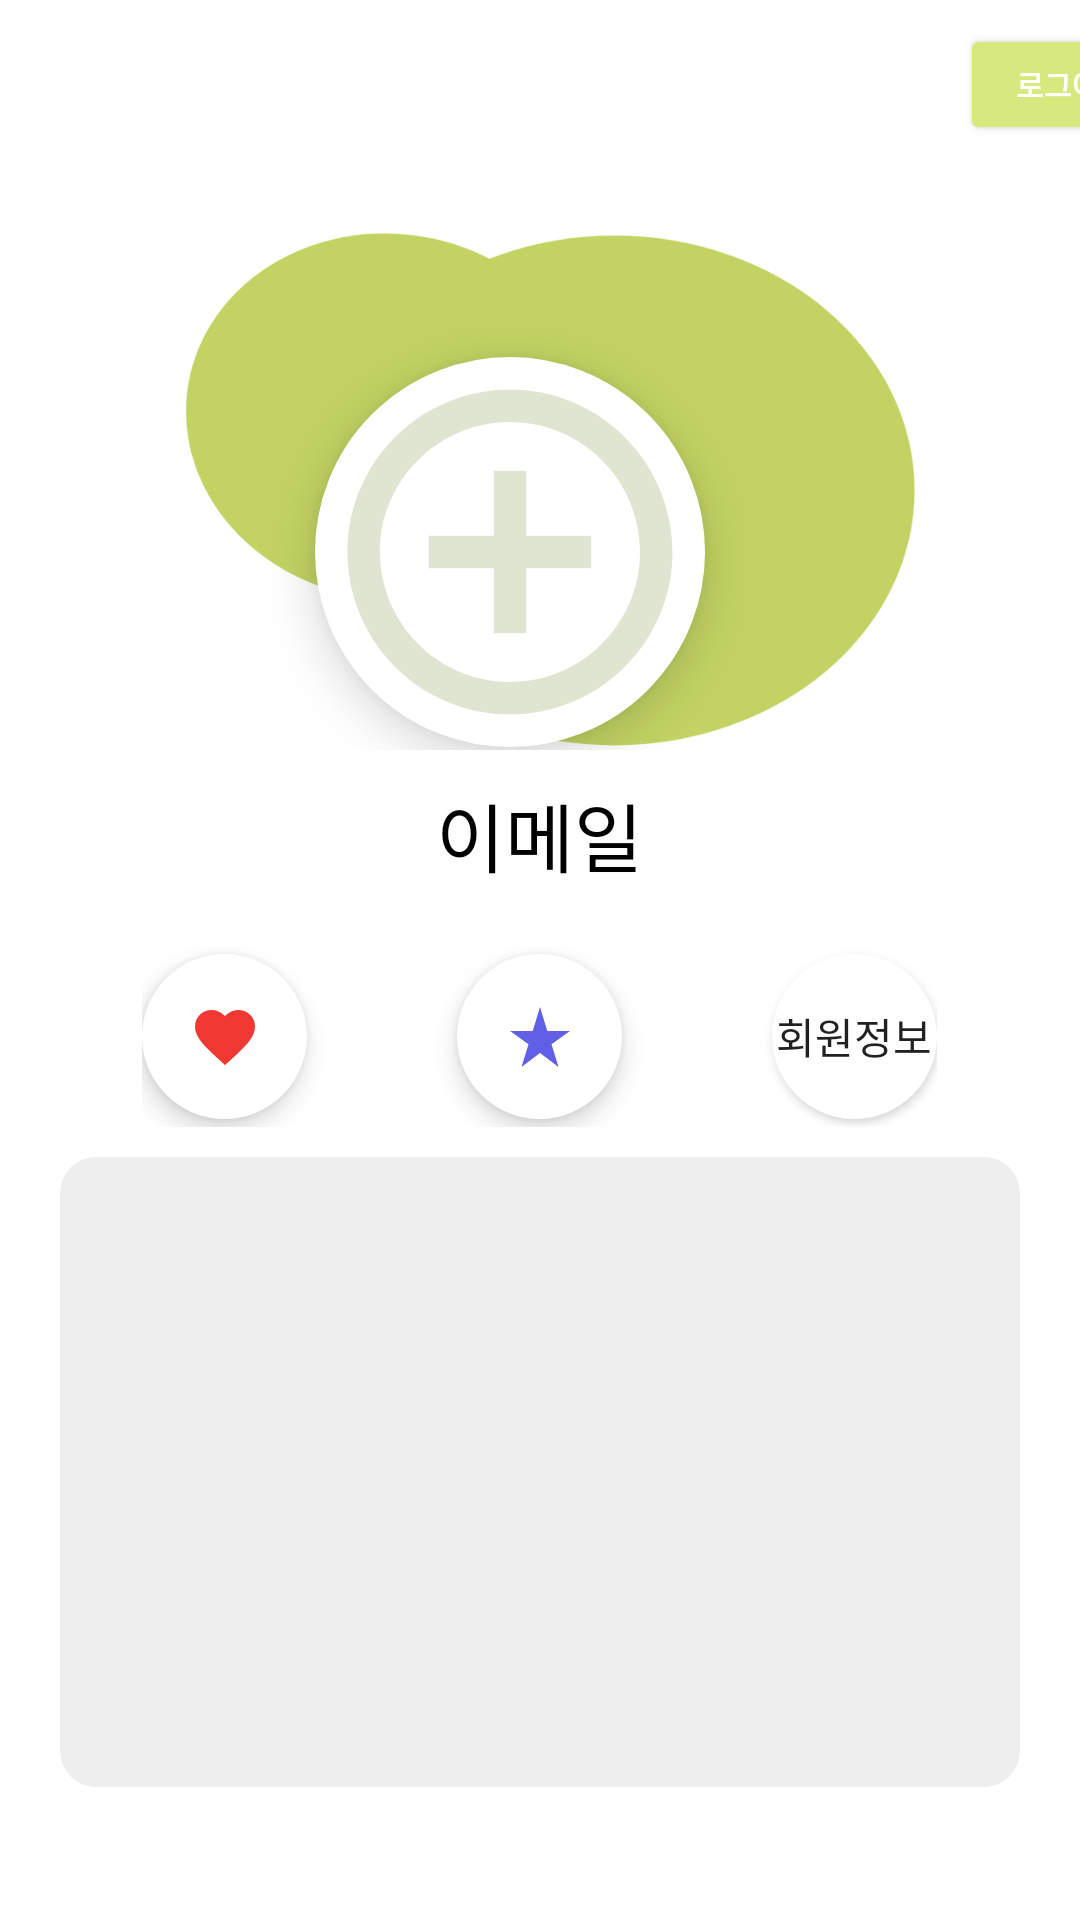

Locate icon controls on the screen. Image size 1080×1920, boxes as box=[x1, y1, x2, y2].
heart: box=[142, 1010, 298, 1080]
star: box=[458, 1008, 621, 1067]
